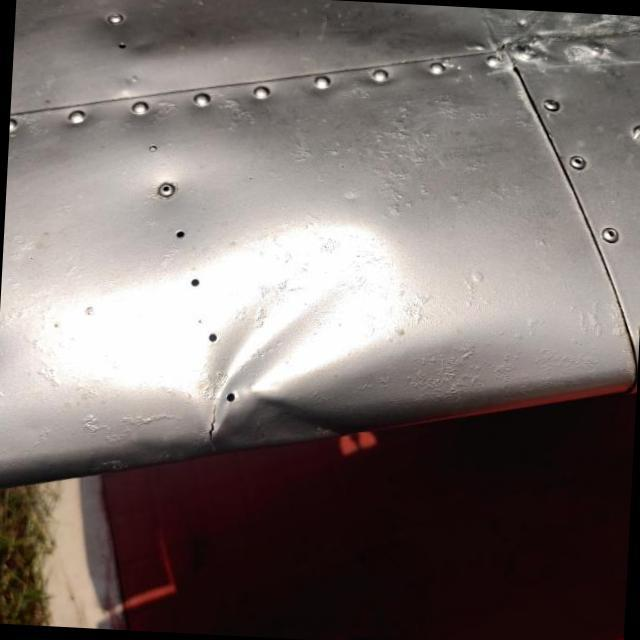Dent: (170, 220, 408, 470)
Rupture: (198, 401, 234, 461)
